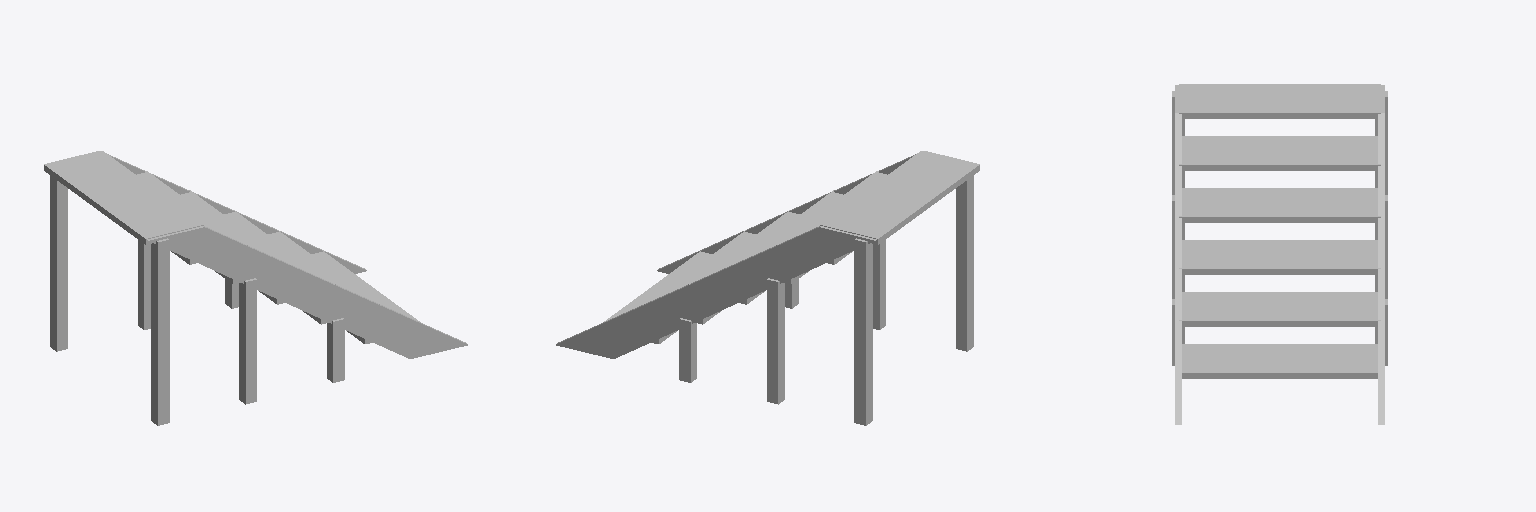
File: stair.obj
The picture shows the model from 3 angles: view 1: azimuth 30°, elevation 25°; view 2: azimuth 150°, elevation 25°; view 3: azimuth 270°, elevation 25°; orthographic projection.
Parts seen in each view (by area): view 1: Cube, Cube.007, Cube.013, Cube.012, Cube.011, Cube.008, Cube.006, Cube.005, Cube.002, Cube.004, Cube.001, Cube.010 (+1 smaller); view 2: Cube.008, Cube.007, Cube.012, Cube.013, Cube.004, Cube, Cube.006, Cube.005, Cube.002, Cube.011, Cube.001, Cube.009 (+1 smaller); view 3: Cube.007, Cube.005, Cube.006, Cube.002, Cube.001, Cube.003, Cube, Cube.008.
Boxes of the visible parts, x1=… form: Cube: x1=147, y1=226, x2=467, y2=358; Cube.007: x1=44, y1=151, x2=203, y2=244; Cube.013: x1=151, y1=238, x2=169, y2=425; Cube.012: x1=50, y1=175, x2=67, y2=351; Cube.011: x1=239, y1=278, x2=256, y2=404; Cube.008: x1=44, y1=151, x2=366, y2=273; Cube.006: x1=137, y1=171, x2=247, y2=264; Cube.005: x1=181, y1=190, x2=291, y2=284; Cube.002: x1=224, y1=210, x2=335, y2=304; Cube.004: x1=138, y1=240, x2=150, y2=329; Cube.001: x1=268, y1=230, x2=379, y2=324; Cube.010: x1=327, y1=318, x2=344, y2=382; Cube.008: x1=556, y1=226, x2=876, y2=358; Cube.007: x1=820, y1=151, x2=979, y2=244; Cube.012: x1=854, y1=238, x2=872, y2=425; Cube.013: x1=956, y1=175, x2=973, y2=351; Cube.004: x1=767, y1=278, x2=784, y2=404; Cube: x1=657, y1=151, x2=979, y2=273; Cube.006: x1=776, y1=171, x2=886, y2=264; Cube.005: x1=732, y1=190, x2=842, y2=284; Cube.002: x1=688, y1=210, x2=799, y2=304; Cube.011: x1=873, y1=240, x2=885, y2=329; Cube.001: x1=644, y1=230, x2=755, y2=324; Cube.009: x1=679, y1=318, x2=696, y2=382; Cube.007: x1=1179, y1=84, x2=1380, y2=118; Cube.005: x1=1179, y1=188, x2=1380, y2=222; Cube.006: x1=1179, y1=136, x2=1380, y2=170; Cube.002: x1=1179, y1=240, x2=1380, y2=274; Cube.001: x1=1179, y1=292, x2=1380, y2=326; Cube.003: x1=1182, y1=344, x2=1377, y2=378; Cube: x1=1175, y1=85, x2=1181, y2=424; Cube.008: x1=1378, y1=85, x2=1384, y2=424.
Bounding box in the file's own units: 11.01 × 6.1 × 6.4.